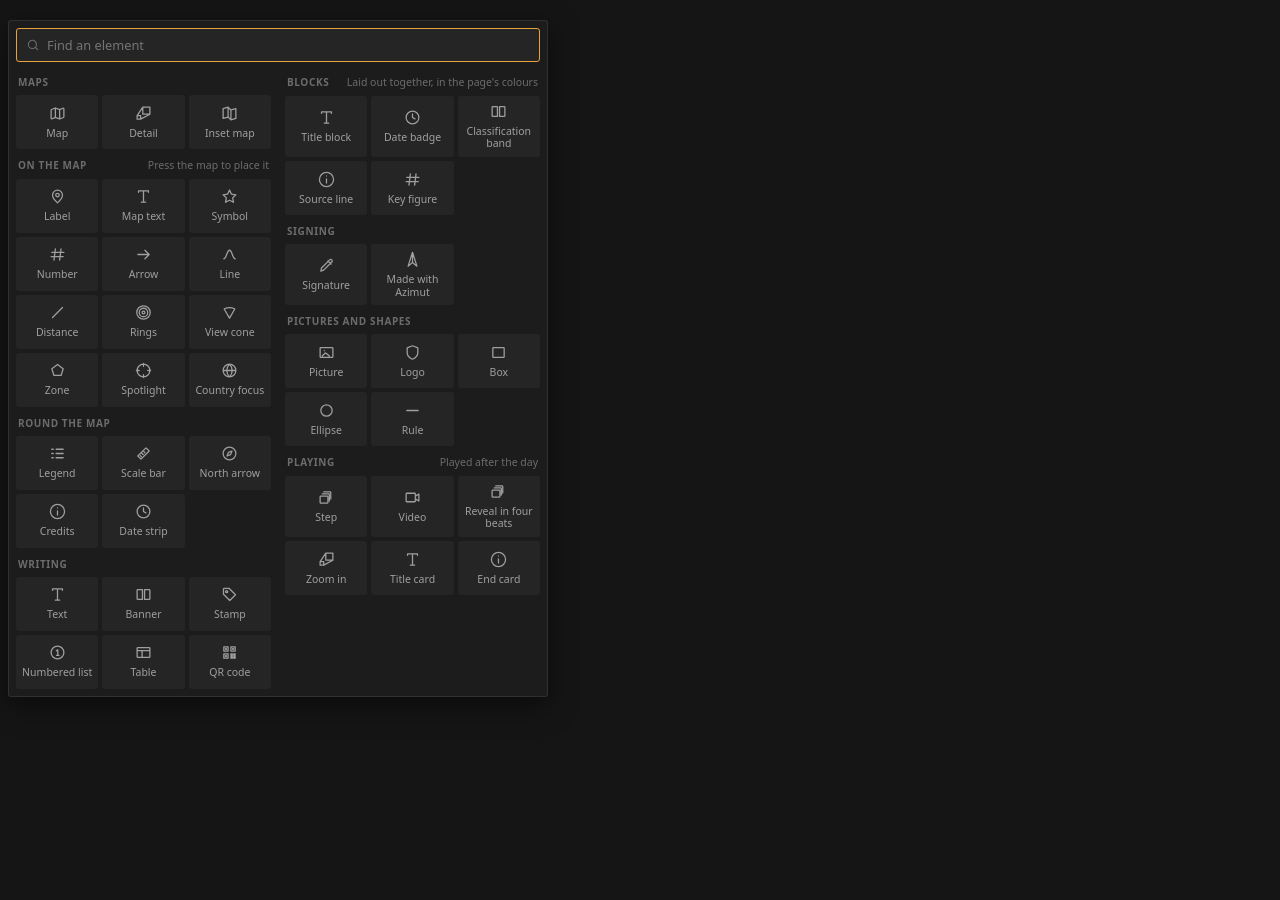
Test: the Add panel › says when nothing answers
The width and height of the screenshot is (1280, 900).
Type "zzz" into the field named "Find an element" at (288, 45), box 47,29 -> 530,61
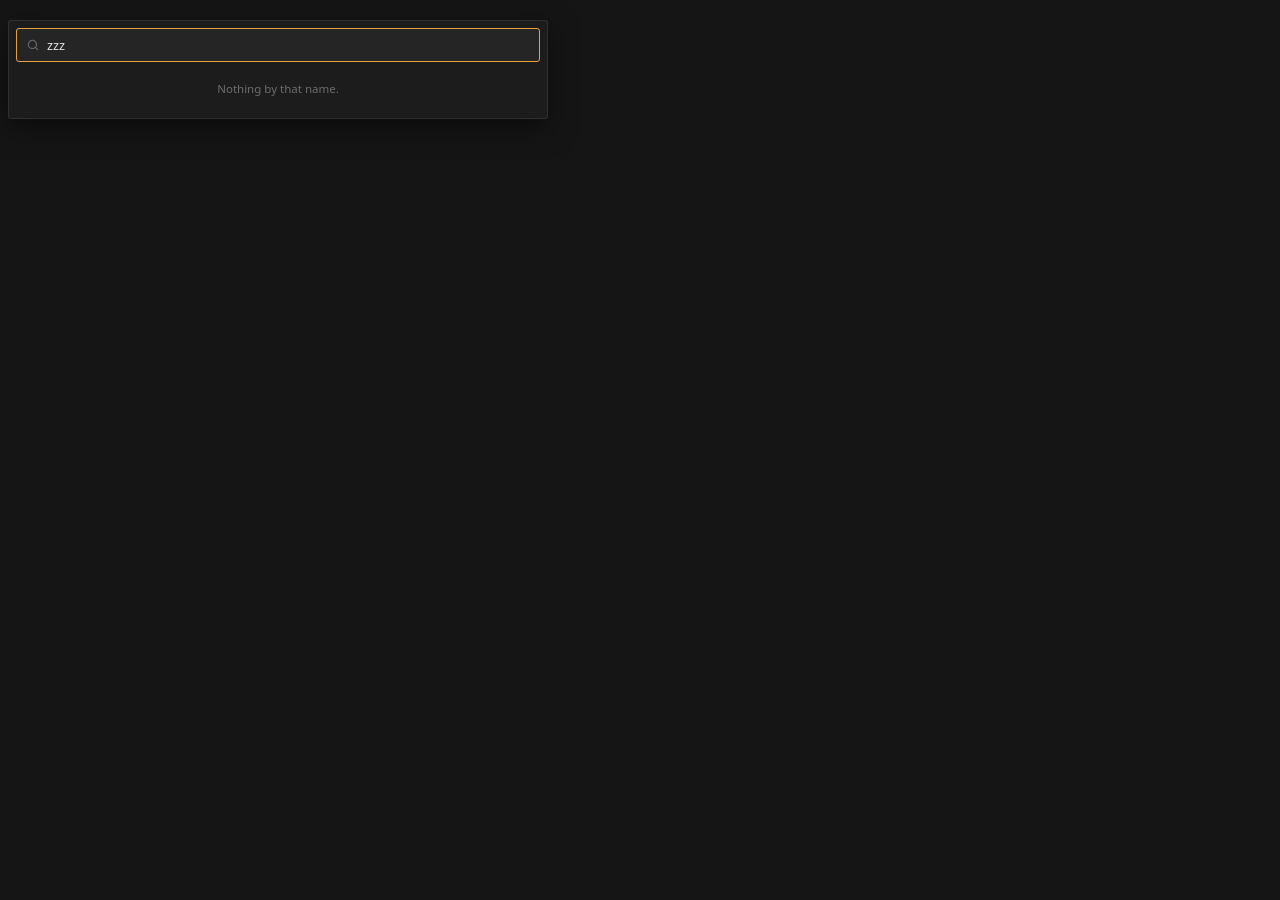
Expected: the text "Nothing by that name." is shown, 217,81 -> 339,96
